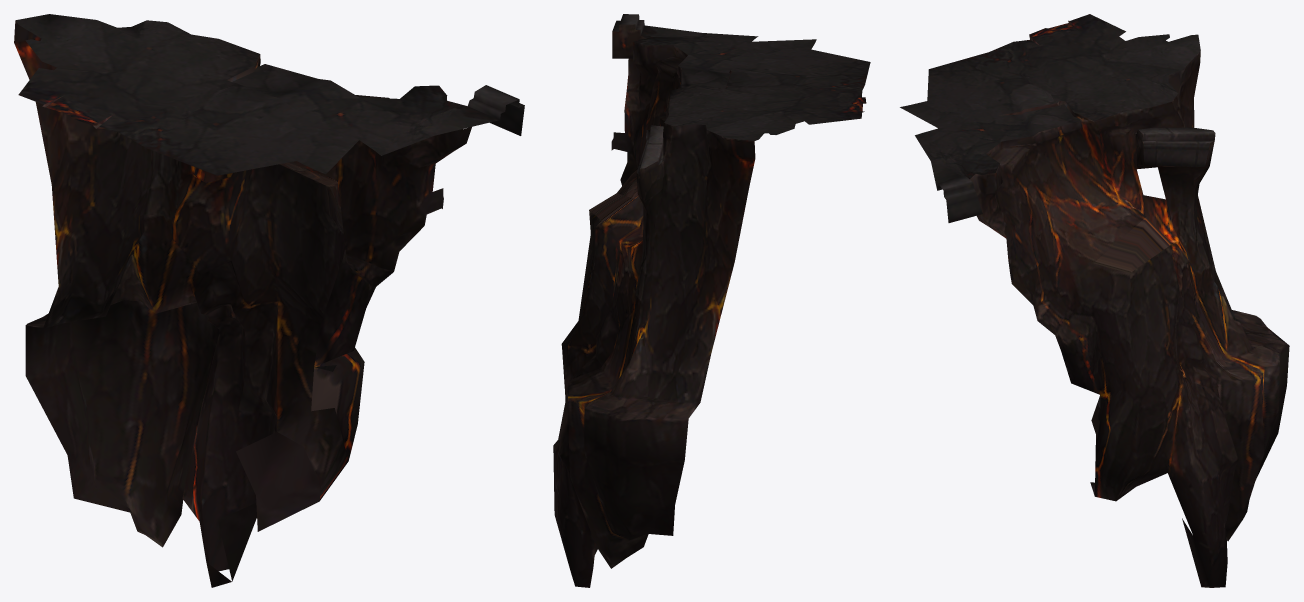
Rendered from S2_Build_XSC106_L17.FBX.
3 renders of one model, left to right at view 1: azimuth 30°, elevation 25°; view 2: azimuth 150°, elevation 25°; view 3: azimuth 270°, elevation 25°, orthographic. The views are drawn at different scales.
Parts seen in each view (by area): view 1: S2_Build_XSC106_L17; view 2: S2_Build_XSC106_L17; view 3: S2_Build_XSC106_L17.
Boxes of the visible parts, x1,y1,x2,y2 form: S2_Build_XSC106_L17: (14,14,524,587); S2_Build_XSC106_L17: (553,14,870,587); S2_Build_XSC106_L17: (900,14,1289,587).
Bounding box in the file's own units: 4650 × 6721 × 4983.
